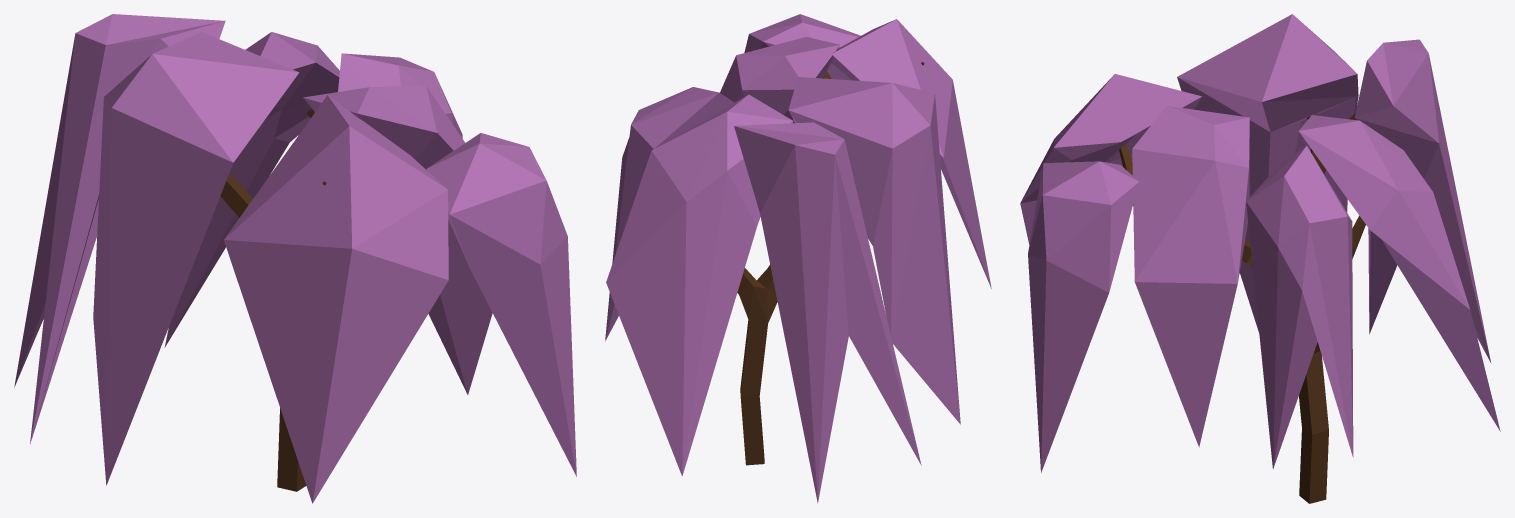
The model's file is tree 4 purple.glb.
3 views of the same model, side by side, from view 1: azimuth 30°, elevation 25°; view 2: azimuth 150°, elevation 25°; view 3: azimuth 270°, elevation 25° (orthographic). The views are drawn at different scales.
Visible parts, largest first — view 1: Icosphere.001, Icosphere, Icosphere.002, Icosphere.006, Icosphere.003, Icosphere.005, Icosphere.004, Plane; view 2: Icosphere.005, Icosphere.006, Icosphere, Icosphere.001, Icosphere.004, Icosphere.003, Plane, Icosphere.002; view 3: Icosphere.003, Icosphere.004, Icosphere.002, Icosphere.005, Icosphere, Icosphere.006, Icosphere.001, Plane.
Boxes of the visible parts, x1=… form: Icosphere.001: x1=224, y1=95, x2=448, y2=503; Icosphere: x1=93, y1=32, x2=299, y2=485; Icosphere.002: x1=426, y1=133, x2=576, y2=476; Icosphere.006: x1=14, y1=14, x2=225, y2=444; Icosphere.003: x1=303, y1=85, x2=492, y2=394; Icosphere.005: x1=164, y1=32, x2=339, y2=347; Icosphere.004: x1=338, y1=53, x2=462, y2=138; Plane: x1=220, y1=108, x2=326, y2=491; Icosphere.005: x1=606, y1=94, x2=793, y2=476; Icosphere.006: x1=734, y1=122, x2=921, y2=503; Icosphere: x1=788, y1=77, x2=960, y2=424; Icosphere.001: x1=831, y1=19, x2=991, y2=288; Icosphere.004: x1=605, y1=87, x2=734, y2=341; Icosphere.003: x1=720, y1=37, x2=839, y2=123; Plane: x1=737, y1=62, x2=924, y2=465; Icosphere.002: x1=744, y1=14, x2=860, y2=80; Icosphere.003: x1=1132, y1=106, x2=1249, y2=447; Icosphere.004: x1=1246, y1=145, x2=1353, y2=469; Icosphere.002: x1=1028, y1=161, x2=1138, y2=472; Icosphere.005: x1=1299, y1=115, x2=1500, y2=431; Icosphere: x1=1177, y1=14, x2=1358, y2=332; Icosphere.006: x1=1354, y1=39, x2=1491, y2=363; Icosphere.001: x1=1020, y1=74, x2=1201, y2=244; Plane: x1=1119, y1=113, x2=1365, y2=503.
Bounding box in the file's own units: 10.12 × 11.74 × 12.19.
